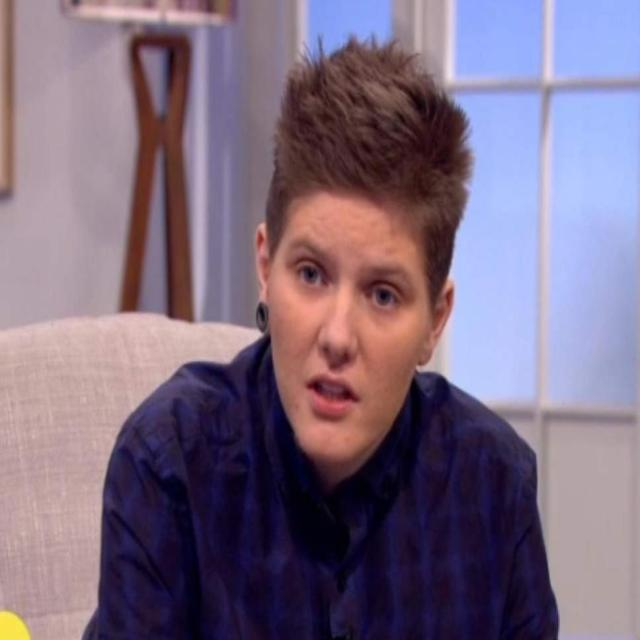human: (86, 28, 563, 635)
